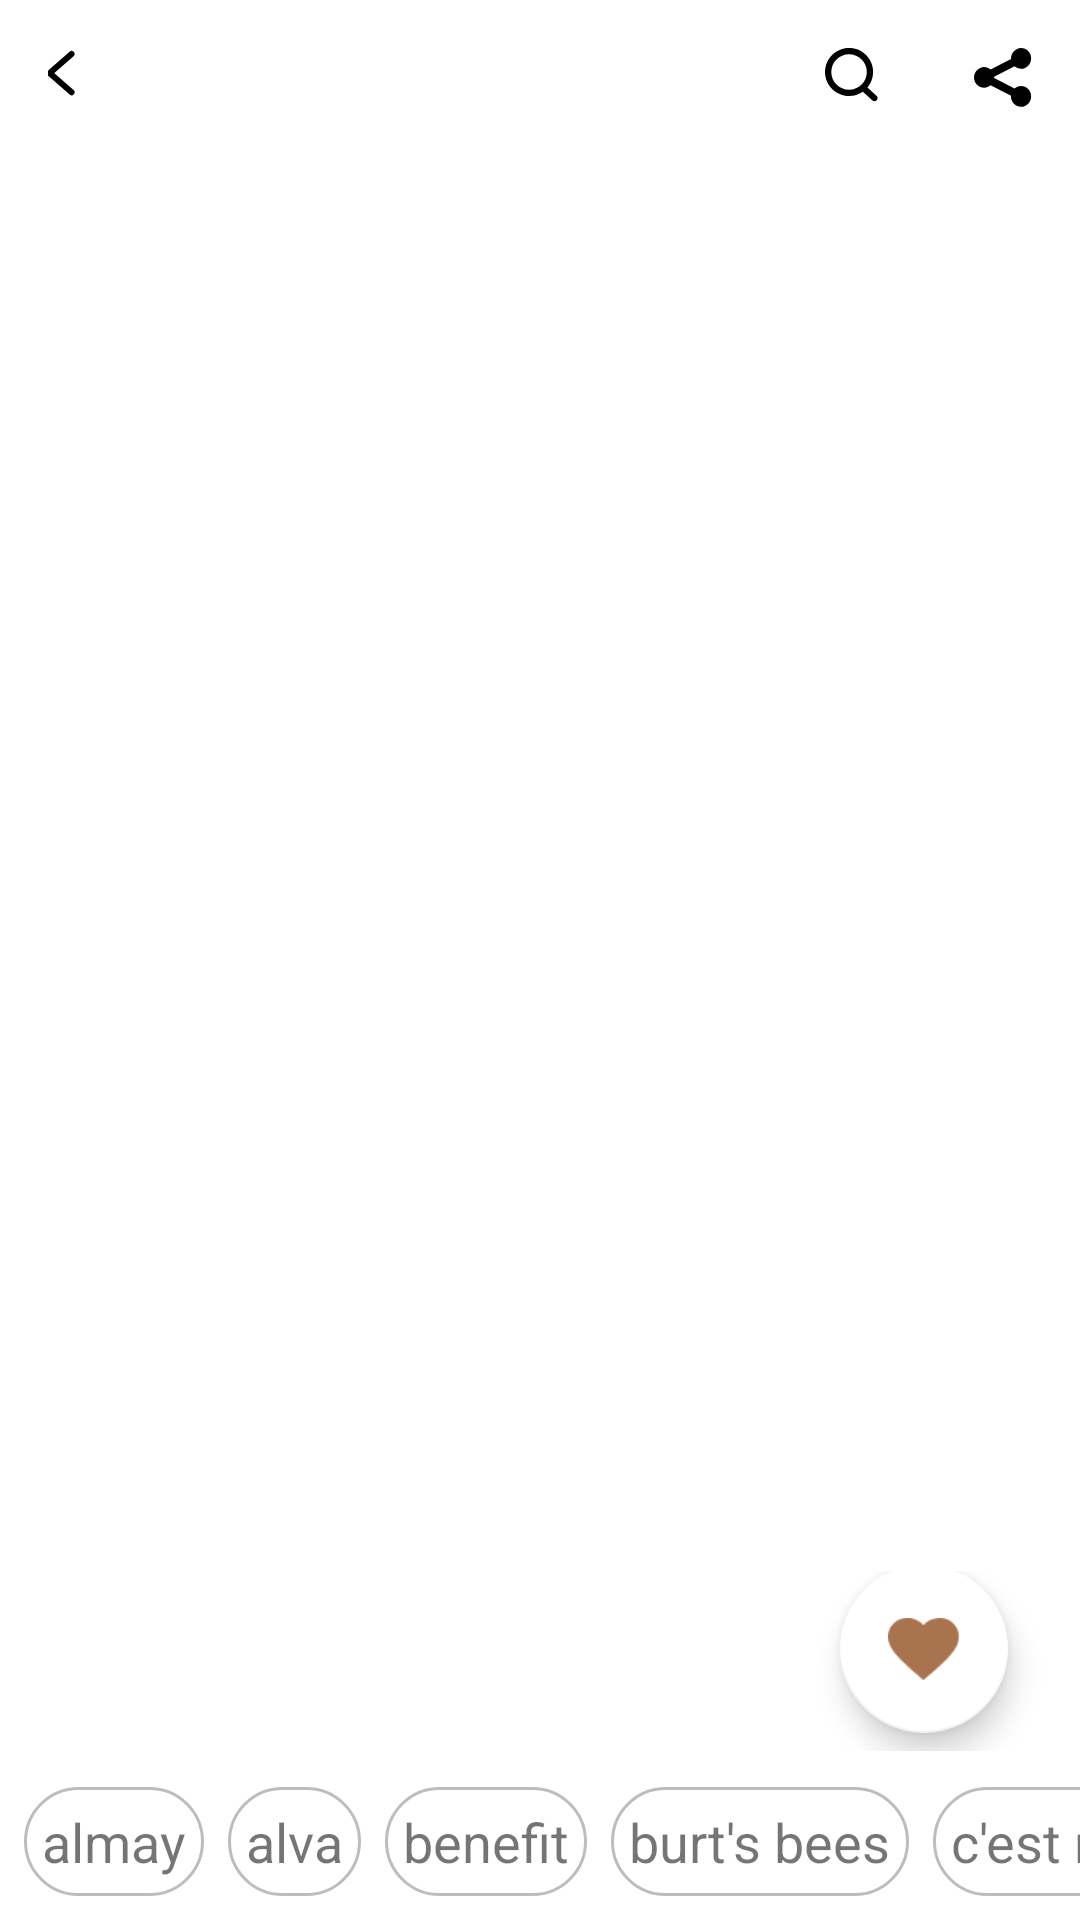

Locate icon controls on the screen. Image size 1080 x 1920, boxes as (x1, y1, x2, y2).
search: (825, 48, 878, 102)
